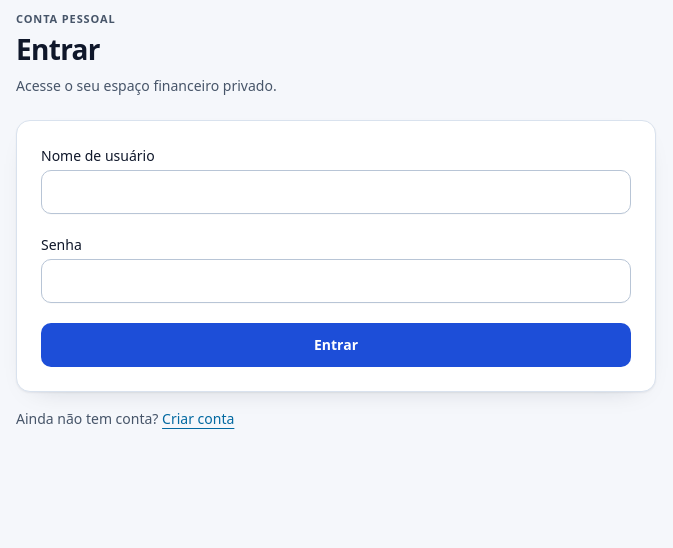
Test: fluxo de autenticação › mostra mensagem genérica de credenciais inválidas no login
In the field labelled "Nome de usuário": (336, 192) [41,170,631,214], type "alice.familia"
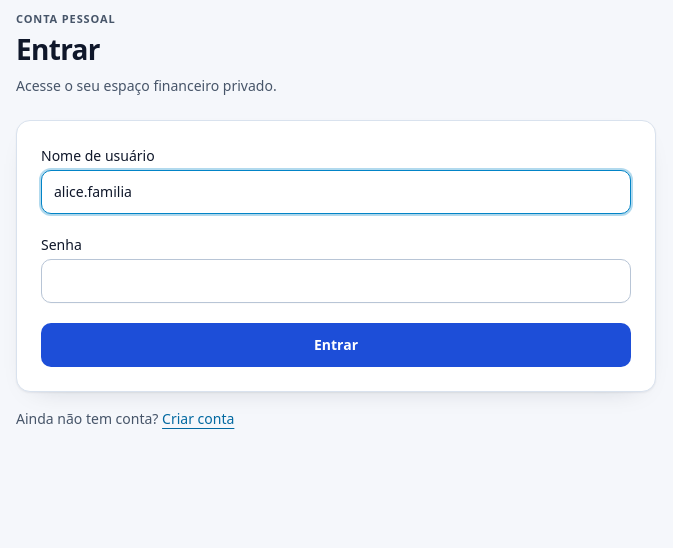
In the password field labelled "Senha": (336, 281) [41,259,631,303], type "senha errada bem longa"
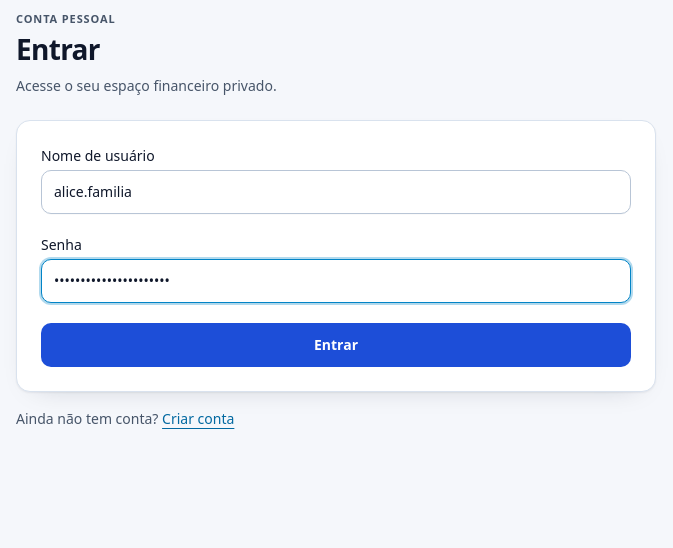
Click the button "Entrar": (336, 345) [41,323,631,367]
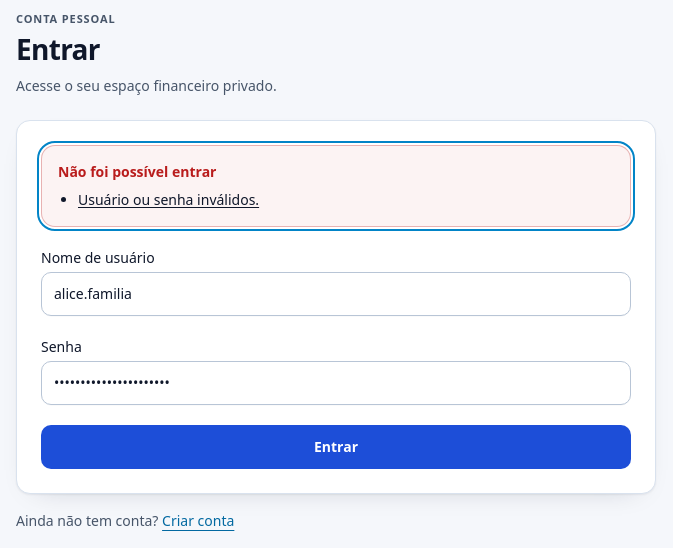
Expected: the message does not show "alice.familia", [41,145,631,227]
Now the message shows "Usuário ou senha inválidos.", box [78,190,259,209]
